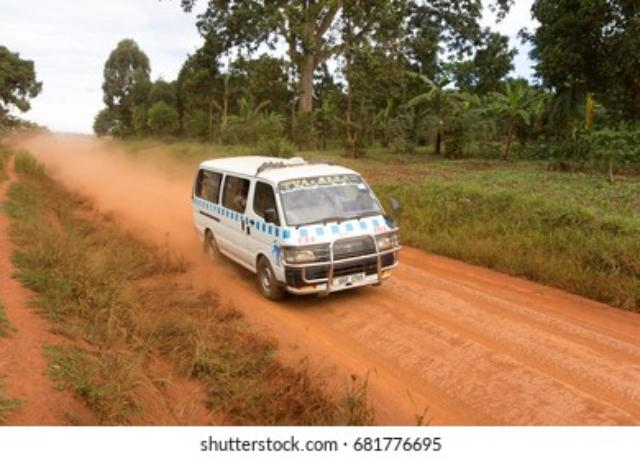van: (189, 152, 400, 299)
